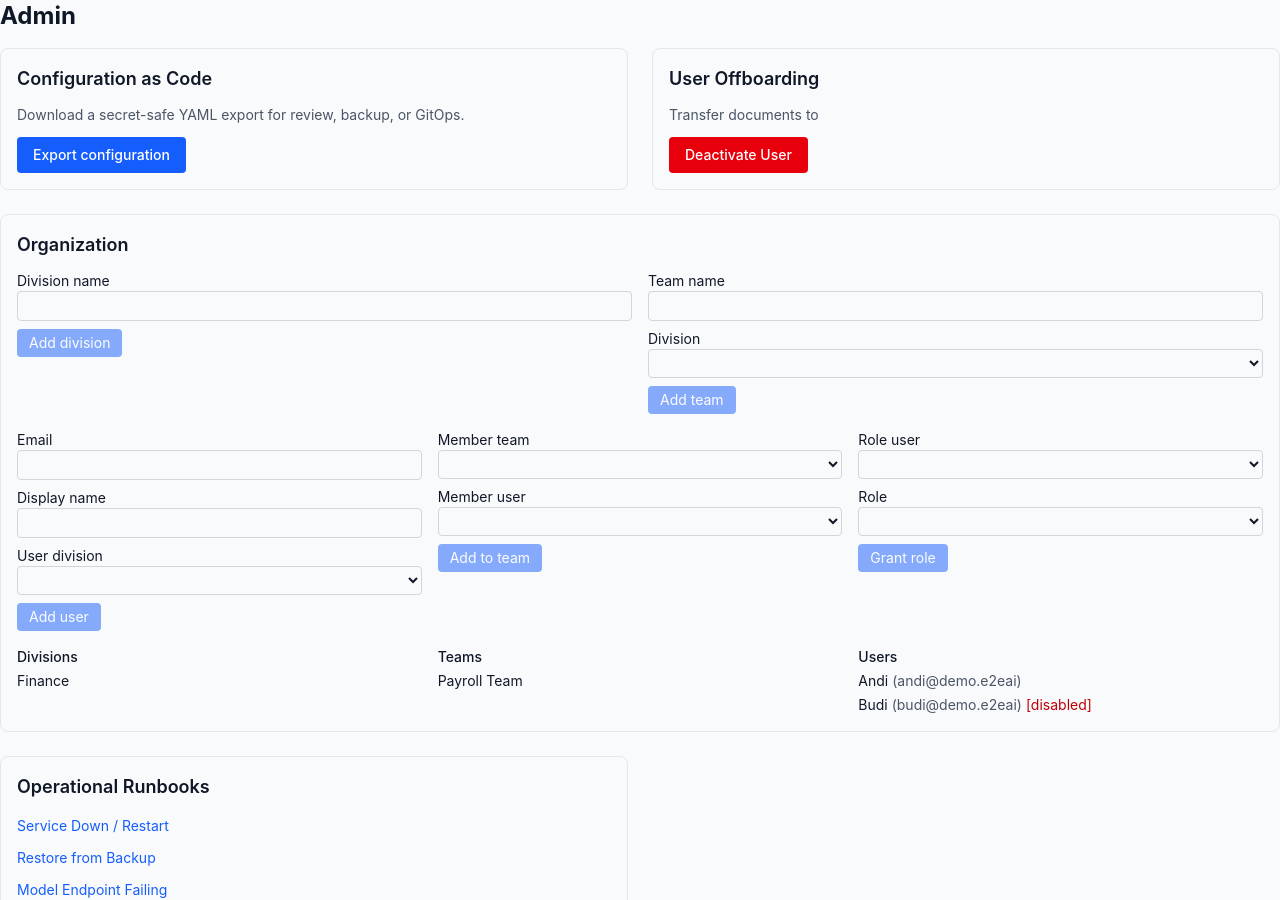
Test: AdminScreen › keeps confirm disabled for non-UUID ids and when the user and new owner are the same
Click the button "Deactivate User": [738, 155] box top-left (669, 137), bottom-right (808, 173)
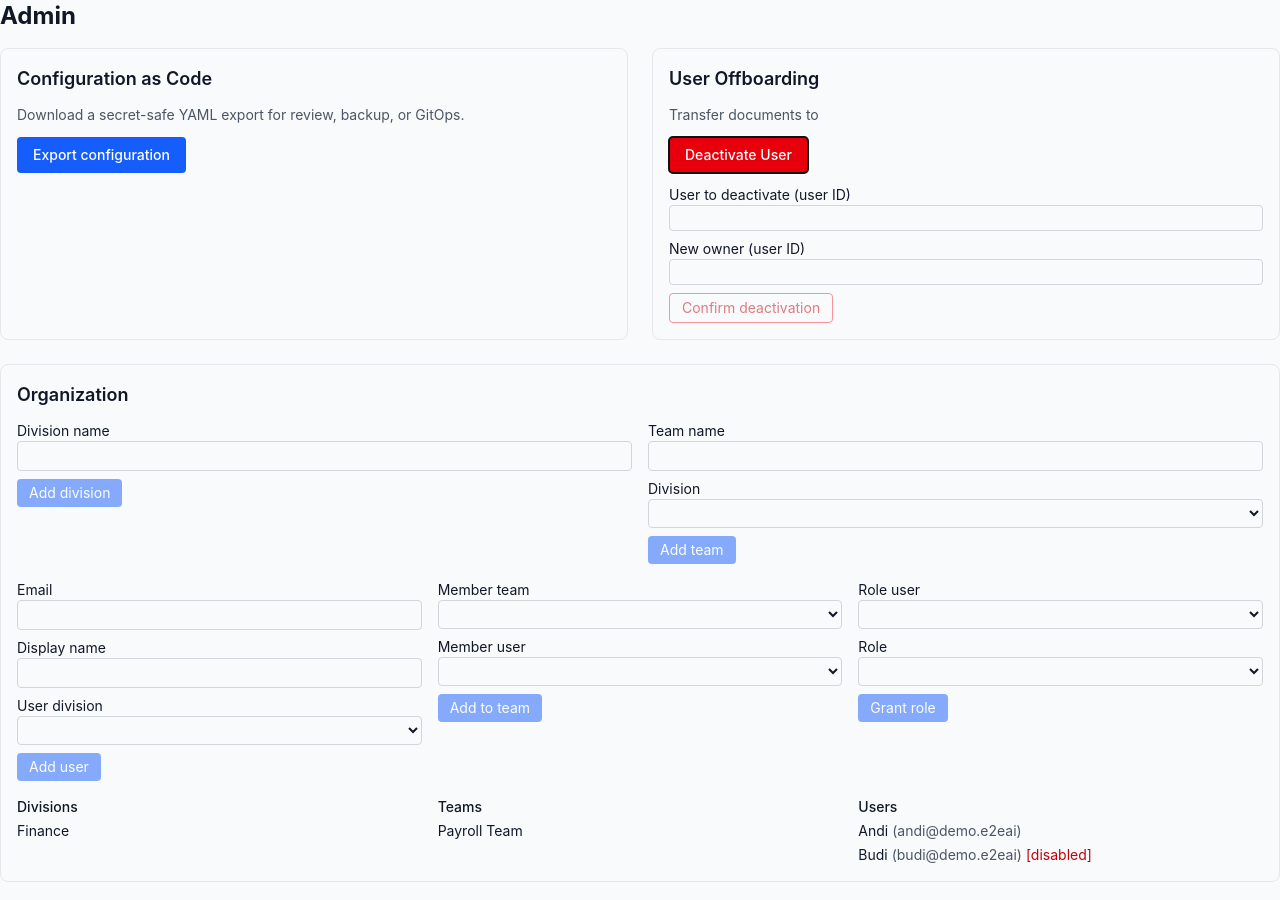
In the field labelled "User to deactivate (user ID)": [966, 218] box top-left (669, 205), bottom-right (1263, 231), type "nope"
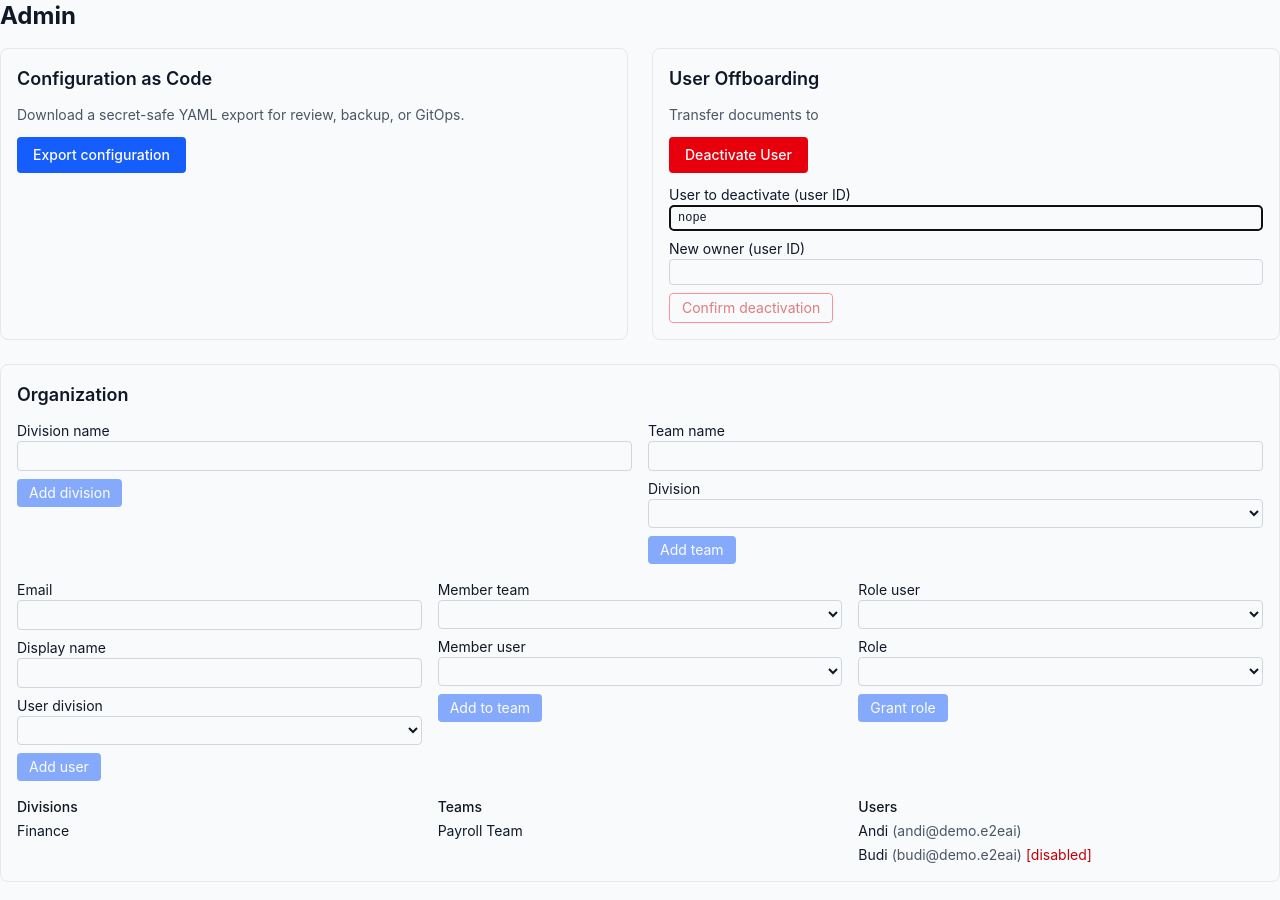
In the field labelled "New owner (user ID)": [966, 272] box top-left (669, 259), bottom-right (1263, 285), type "9a1d4e07-2c3b-4f6a-8b10-5e7d9c0a1f22"
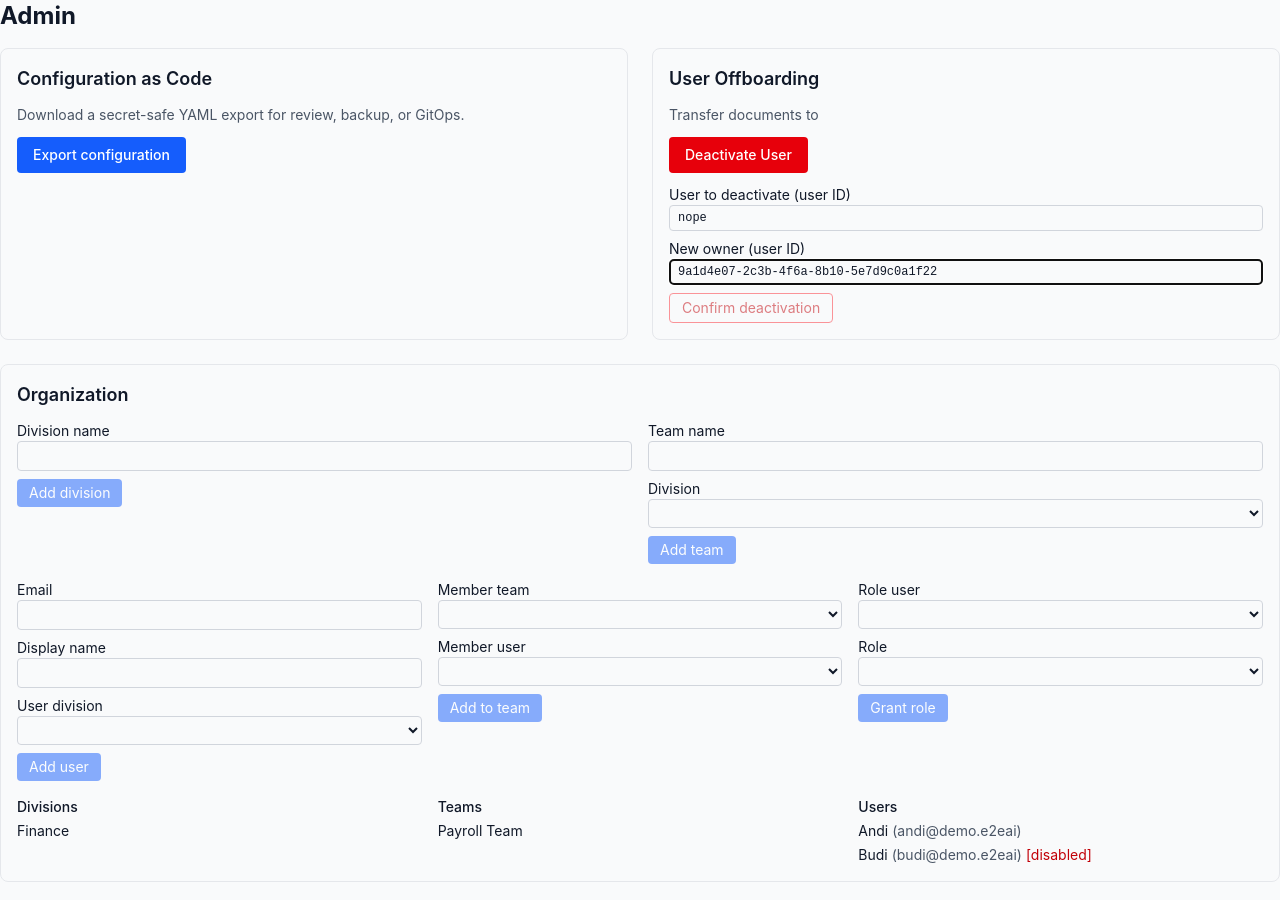
Expected: the button "Confirm deactivation" is disabled, top-left (669, 293), bottom-right (833, 323)
Replace the text in the field labelled "User to deactivate (user ID)" with "9a1d4e07-2c3b-4f6a-8b10-5e7d9c0a1f22": [966, 218] box top-left (669, 205), bottom-right (1263, 231)
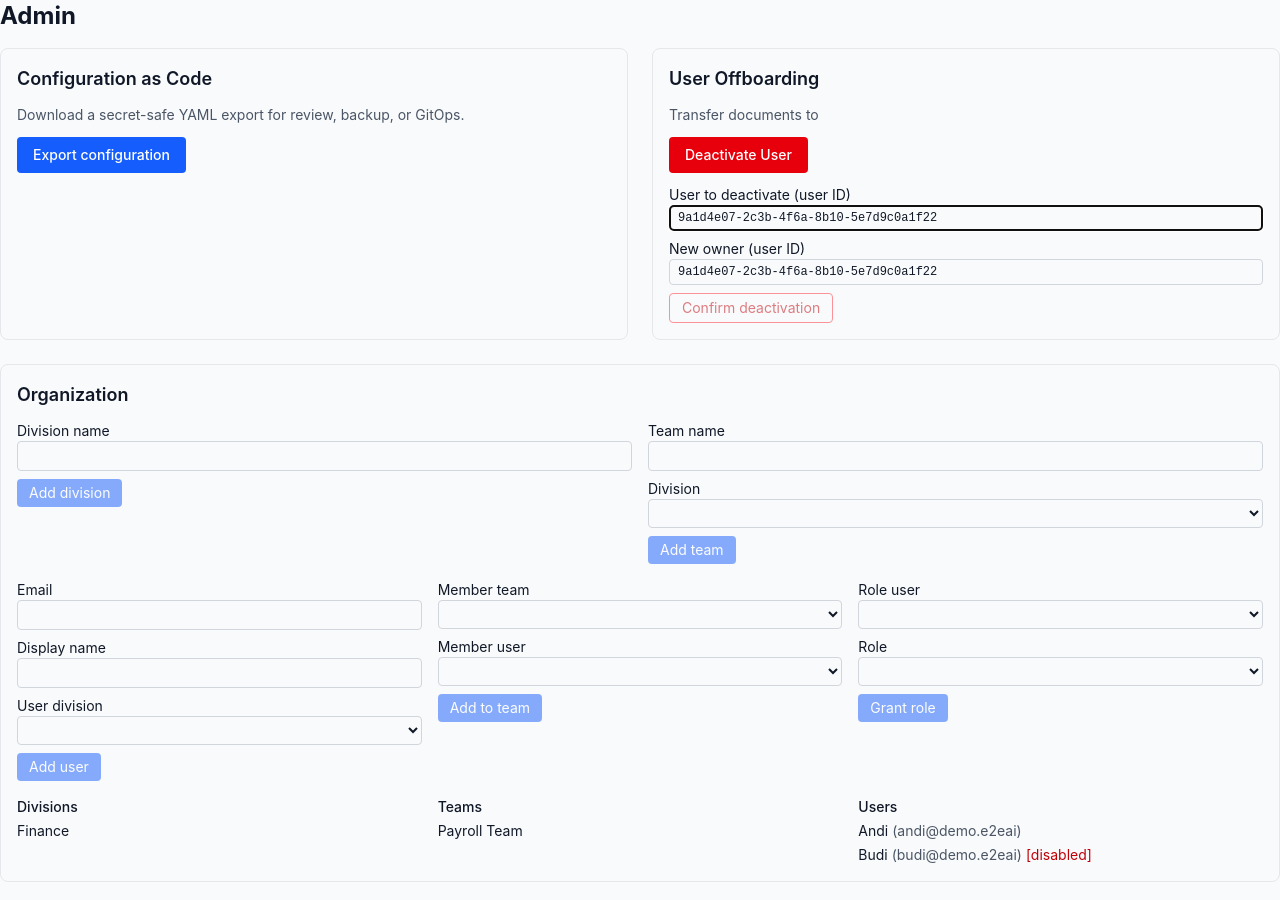
Expected: the button "Confirm deactivation" is disabled, top-left (669, 293), bottom-right (833, 323)
Replace the text in the field labelled "User to deactivate (user ID)" with "3f2c8a52-1b7e-4c1d-9a55-0d2f6a9b7c11": [966, 218] box top-left (669, 205), bottom-right (1263, 231)
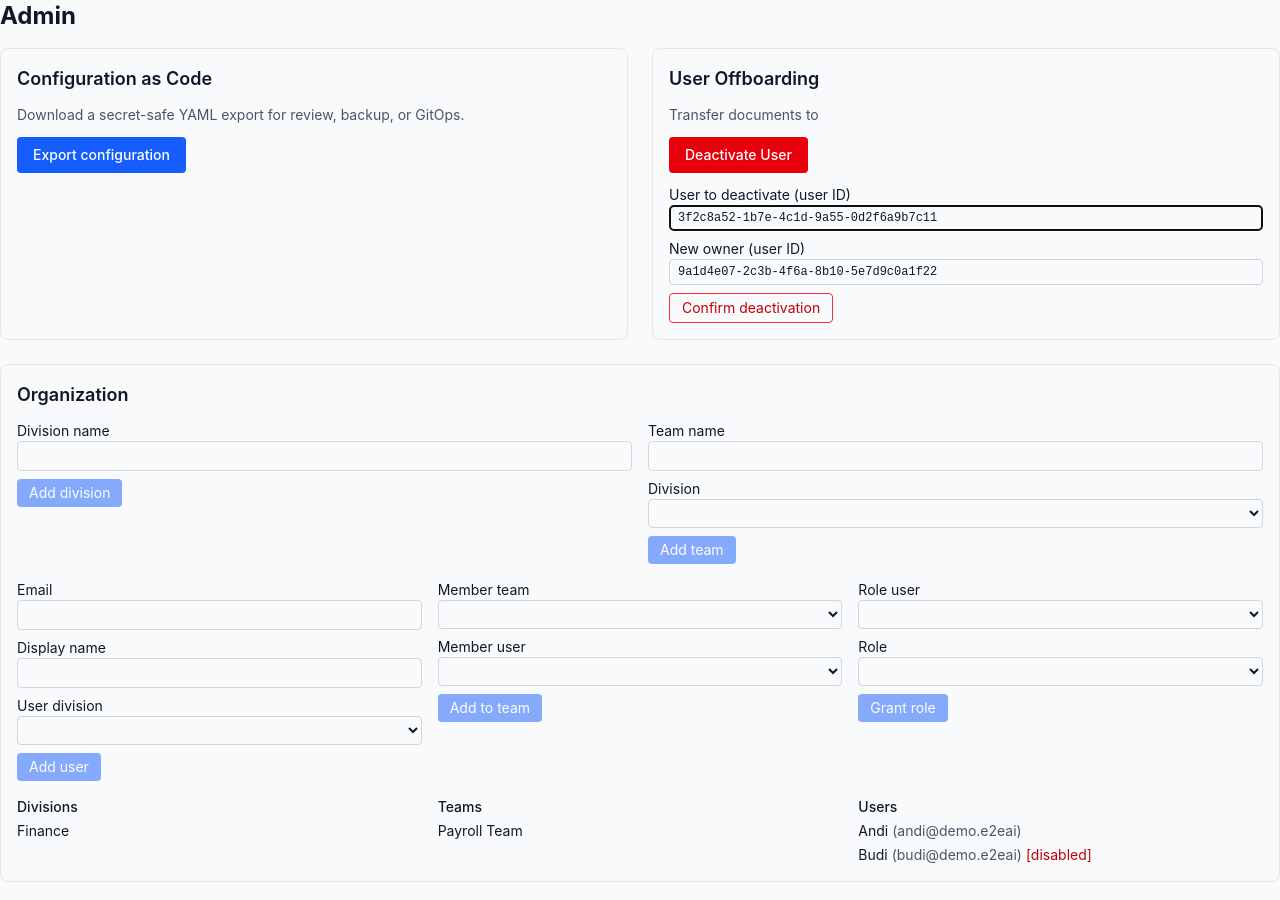
Expected: the button "Confirm deactivation" is enabled, top-left (669, 293), bottom-right (833, 323)
